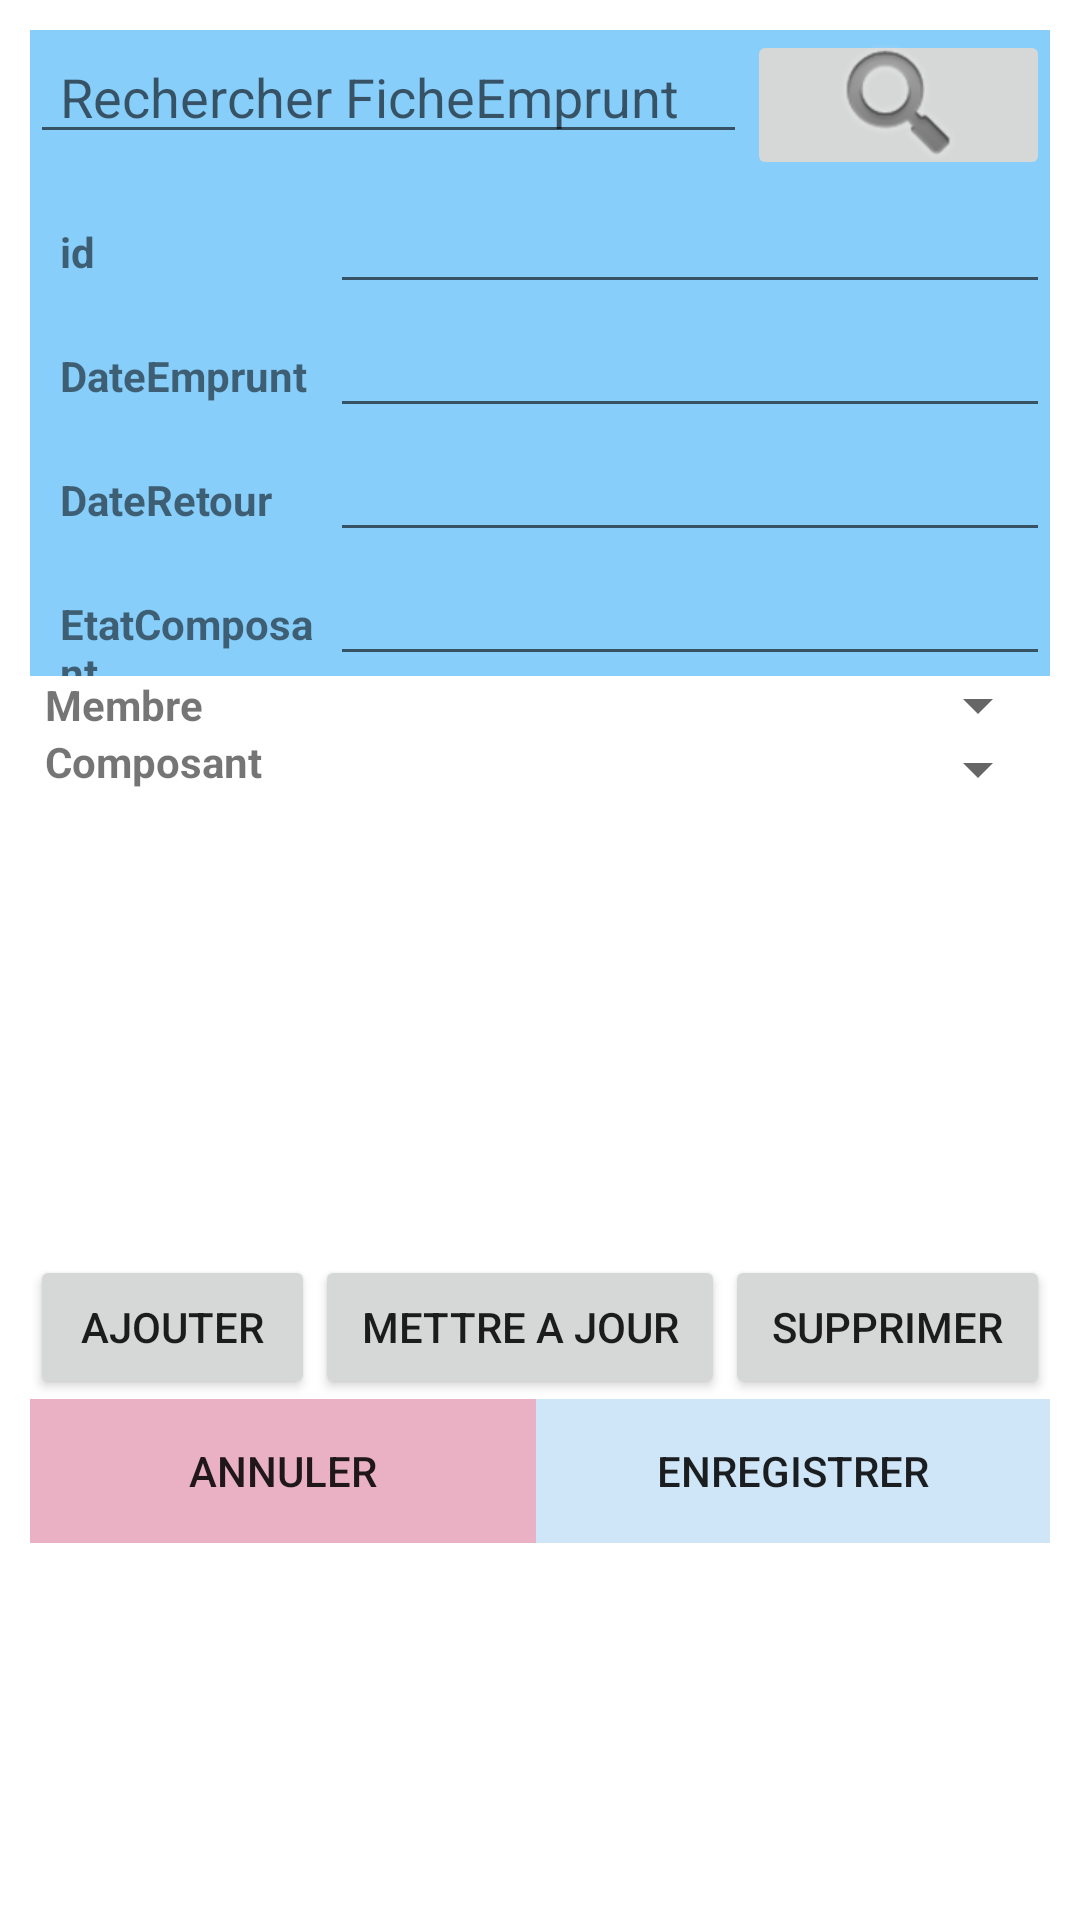

Icons on this 1080 x 1920 Android screen, each with the point to tap as [x,y]:
search category: [898,105]
